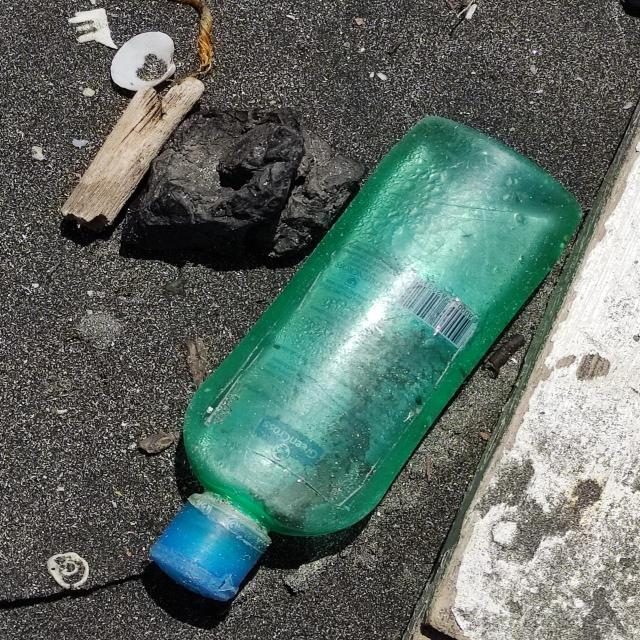plastic_waste: (152, 115, 588, 607)
